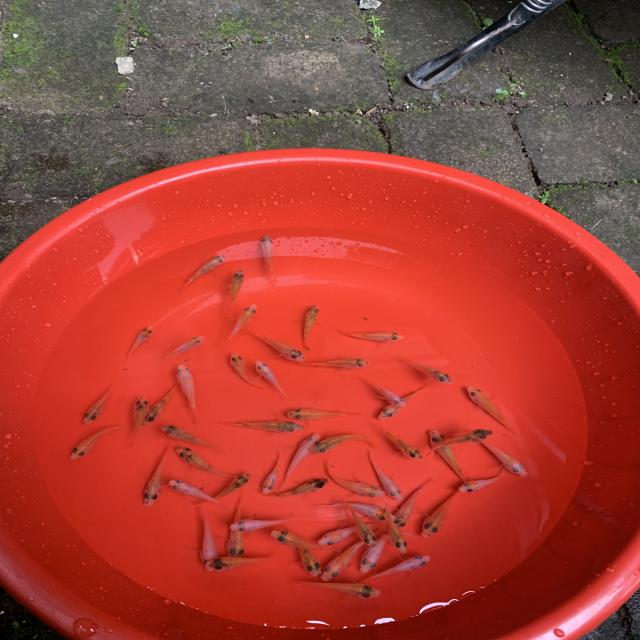nila: (454, 378, 523, 438), (290, 578, 400, 614), (311, 529, 375, 587), (416, 482, 473, 540), (424, 426, 474, 492), (310, 460, 389, 501), (164, 359, 211, 424), (271, 429, 326, 484), (140, 372, 191, 430), (142, 438, 184, 508), (308, 494, 401, 525), (373, 421, 438, 465), (170, 250, 229, 298), (356, 523, 402, 584), (475, 432, 535, 478), (155, 422, 234, 456), (364, 450, 416, 501), (244, 325, 307, 367), (390, 473, 436, 530), (417, 425, 494, 459), (220, 498, 255, 572), (362, 553, 440, 586), (174, 443, 246, 477), (309, 514, 376, 550), (278, 403, 378, 427), (305, 428, 380, 460), (326, 320, 410, 348), (375, 382, 435, 421), (78, 372, 122, 425), (68, 419, 122, 462), (196, 466, 253, 506), (287, 349, 382, 372), (264, 524, 334, 555), (290, 301, 330, 355), (393, 354, 456, 388), (265, 474, 336, 504), (222, 294, 260, 348), (203, 551, 285, 576), (225, 510, 298, 538), (167, 472, 226, 506), (456, 465, 516, 498), (216, 416, 310, 437), (359, 375, 412, 410), (341, 506, 384, 548), (290, 529, 326, 578), (158, 333, 209, 367), (253, 447, 289, 495), (384, 497, 412, 558), (256, 234, 290, 284), (118, 324, 160, 363), (251, 361, 295, 398), (224, 352, 264, 390), (198, 514, 225, 569), (225, 265, 250, 315), (131, 390, 150, 451)
